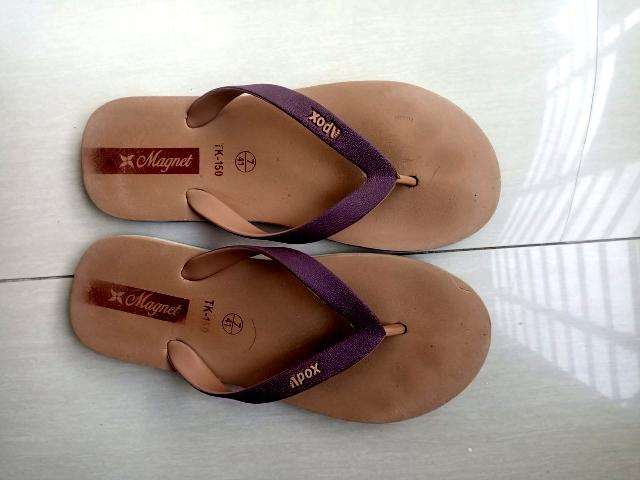sandal: (66, 243, 488, 426), (94, 71, 491, 250)
